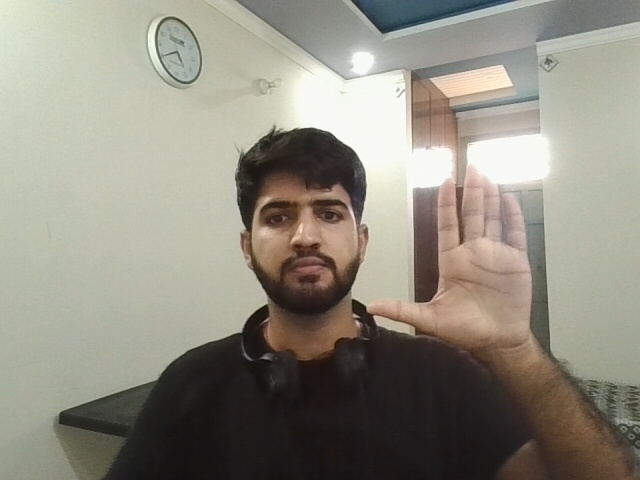Hello: (365, 162, 552, 383)
